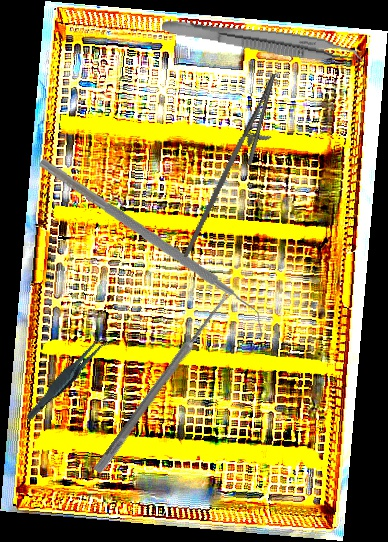Chopper: (30, 159, 273, 337)
Needle Holder: (182, 65, 292, 271)
Surgical Spoon: (93, 285, 235, 476)
Tissue Forceps: (160, 17, 366, 70), (12, 334, 123, 422)
